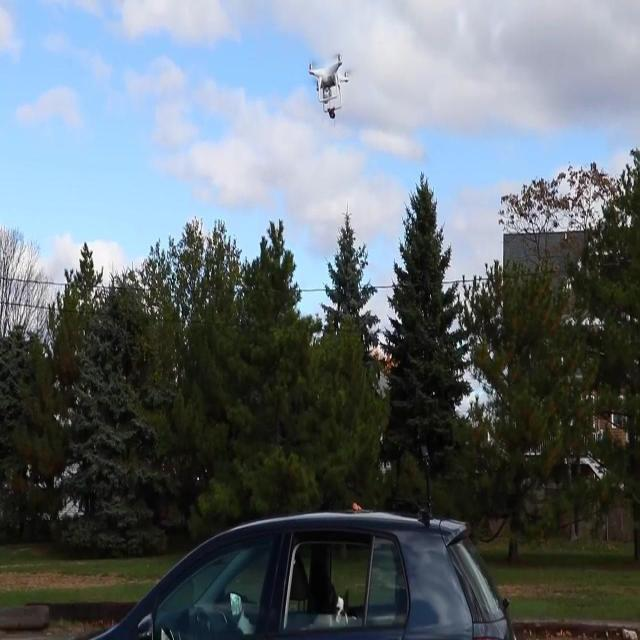drone: (307, 51, 353, 120)
